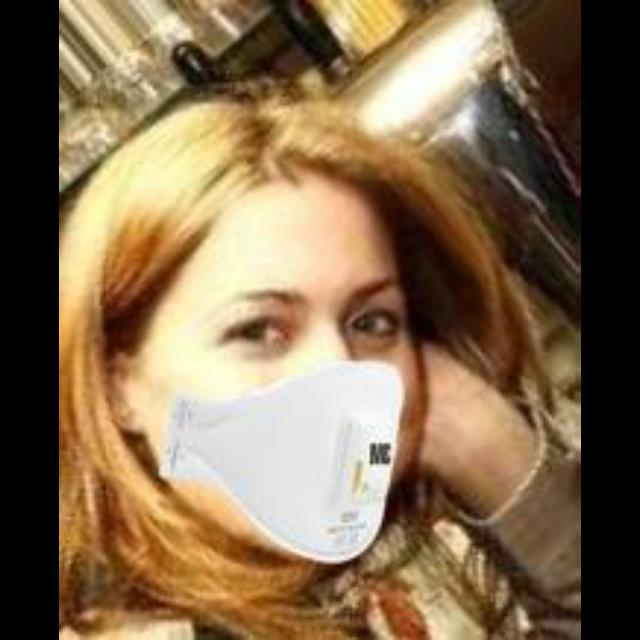suspicion: (108, 129, 448, 563)
